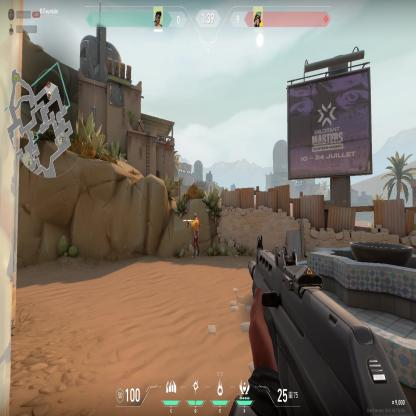enemy: (187, 211, 200, 259)
